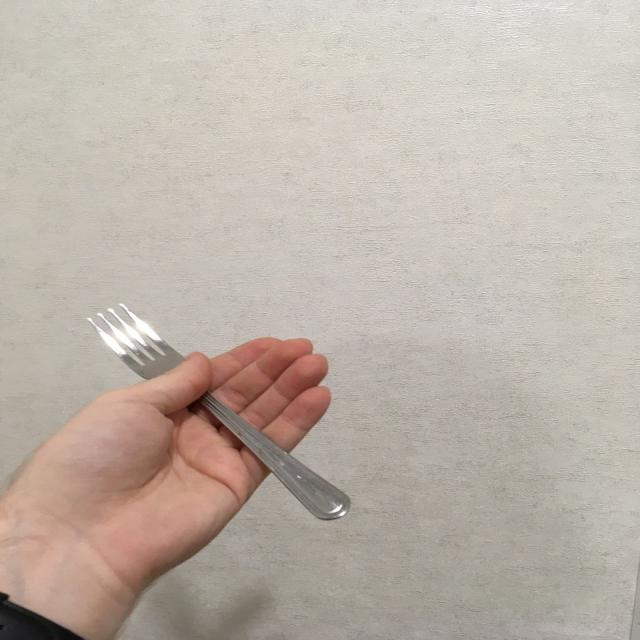fork: (86, 302, 352, 522)
